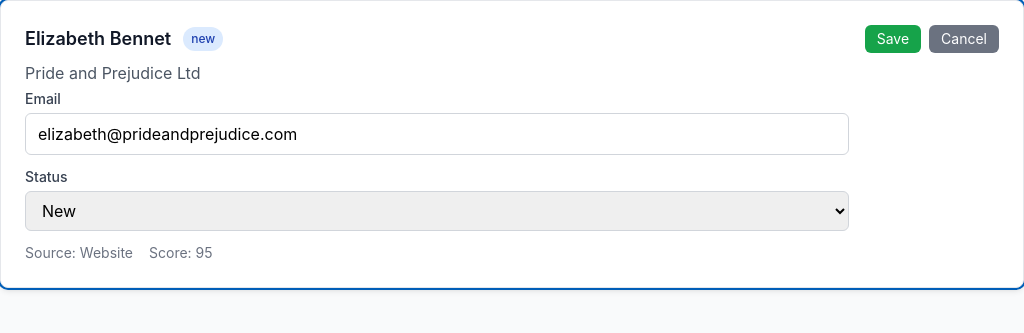
Test: LeadCard Component › Negative Tests › should show error for invalid email format
This screenshot has width=1024, height=333.
Replace the text in the field labelled "Email" with "invalid-email" at point(437, 134), box [25,113,849,155]
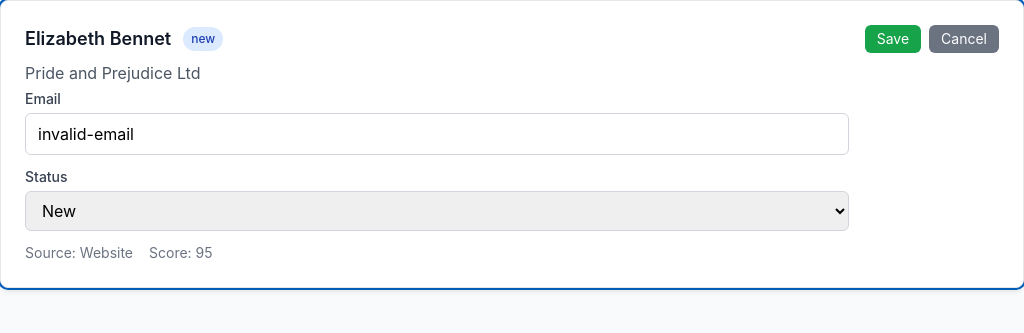
Click the button "Save" at point(893, 39), box [865,25,921,53]
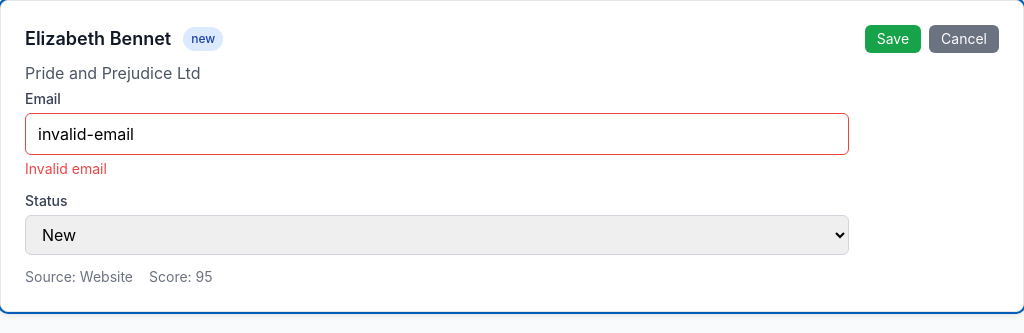
Expected: the text "Invalid email" is shown, [25,160,107,177]
